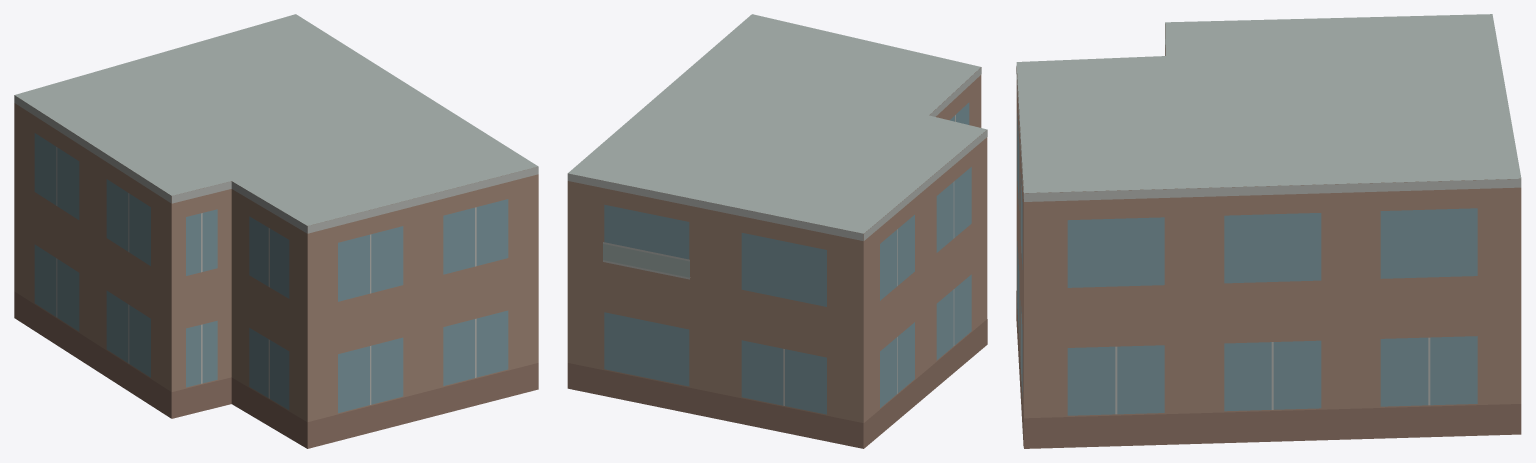
The model's file is survey-upis-32936903.glb.
The picture shows the model from 3 angles, left to right: view 1: azimuth 30°, elevation 25°; view 2: azimuth 150°, elevation 25°; view 3: azimuth 270°, elevation 25°; orthographic projection. The views are drawn at different scales.
Visible parts, largest first — view 1: survey-upis-32936903.tmp; view 2: survey-upis-32936903.tmp; view 3: survey-upis-32936903.tmp.
Part boxes in pixels (x1,y1,x2,y2): survey-upis-32936903.tmp: [14, 14, 538, 448]; survey-upis-32936903.tmp: [567, 14, 987, 448]; survey-upis-32936903.tmp: [1016, 14, 1521, 448].
Size of the model in its own units: 10.53 by 7 by 12.54.
